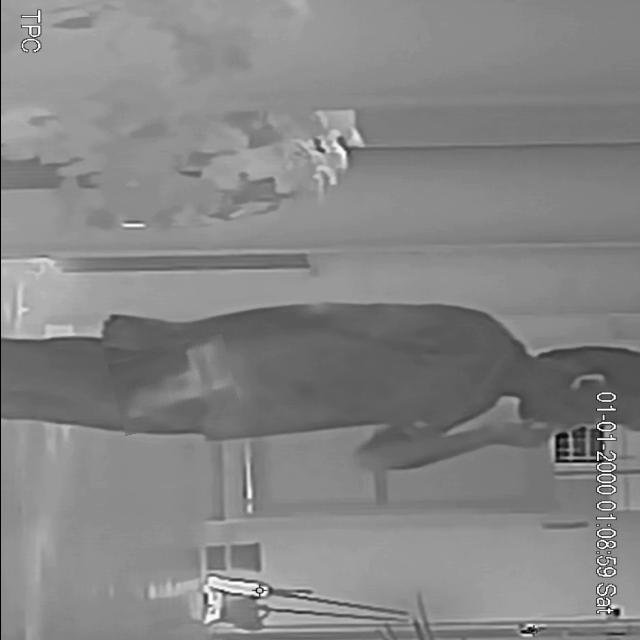Weapon: (110, 340, 237, 430)
